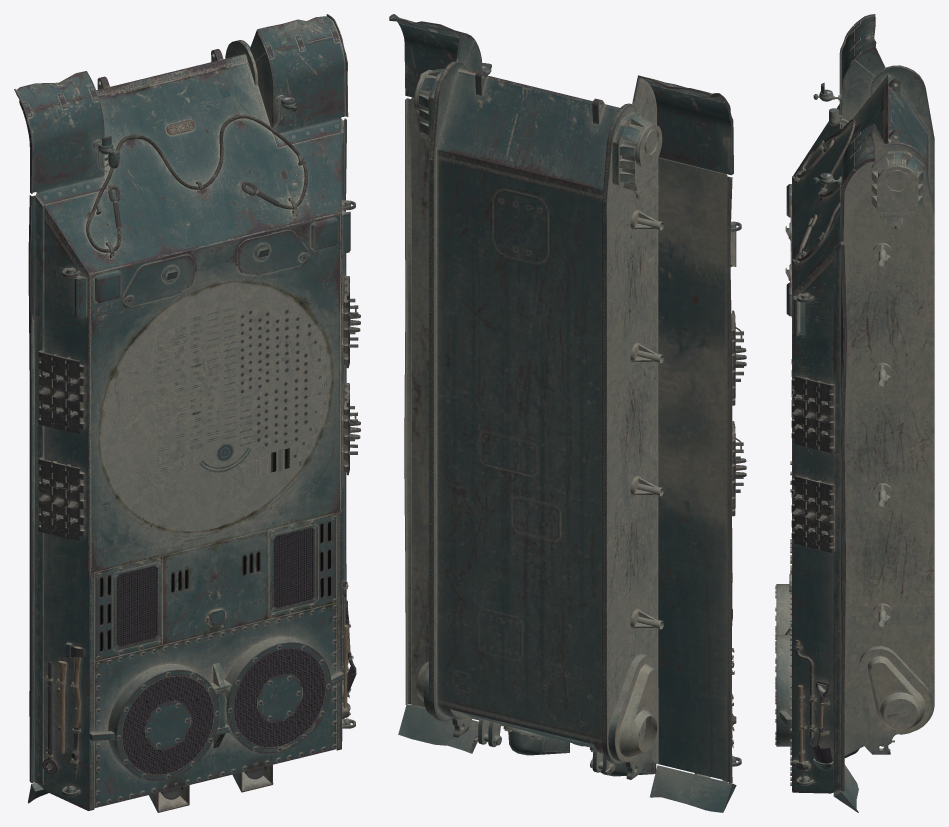
Rendered from Hull.glb.
3 renders of one model, left to right at view 1: azimuth 30°, elevation 25°; view 2: azimuth 150°, elevation 25°; view 3: azimuth 270°, elevation 25°, orthographic. The views are drawn at different scales.
Parts seen in each view (by area): view 1: set_0_group_0; view 2: set_0_group_0; view 3: set_0_group_0.
Boxes of the visible parts, left/top/right/bottom form: set_0_group_0: left=14, top=14, right=360, bottom=812; set_0_group_0: left=389, top=14, right=746, bottom=812; set_0_group_0: left=775, top=14, right=934, bottom=812.
Size of the model in its own units: 3.44 by 7.33 by 1.58.
Materials: 1 (1 with a texture image).
